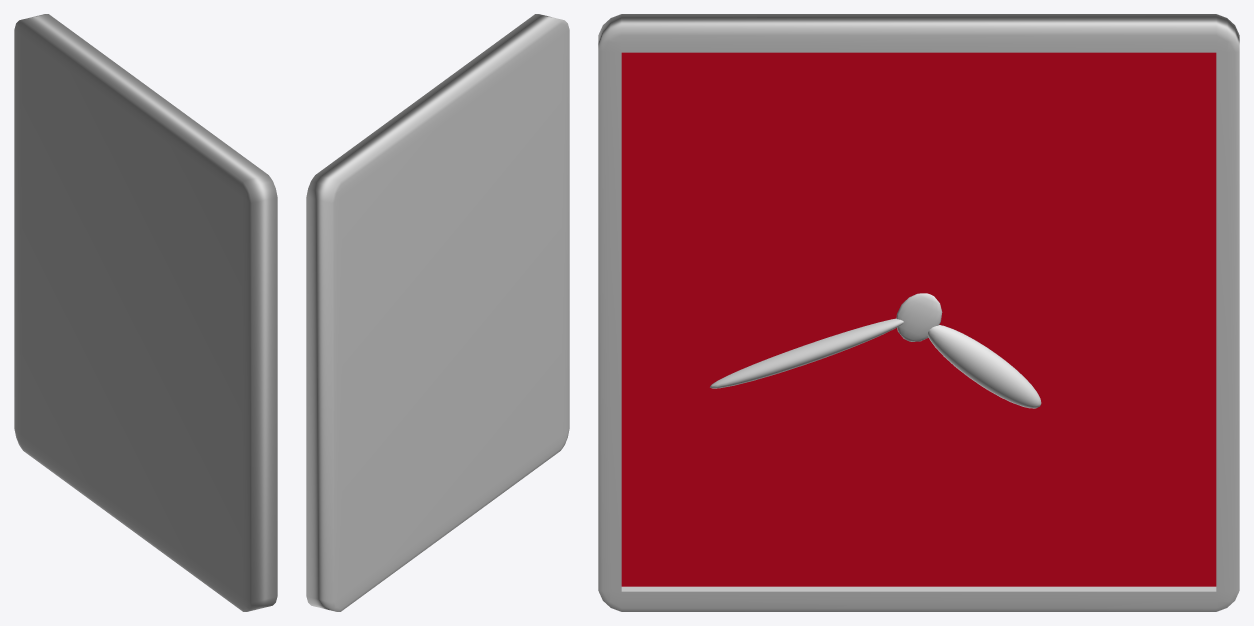
The model's file is clock2 1.fbx.
The picture shows the model from 3 angles, left to right: view 1: azimuth 30°, elevation 25°; view 2: azimuth 150°, elevation 25°; view 3: azimuth 270°, elevation 25°; orthographic projection. The views are drawn at different scales.
Parts seen in each view (by area): view 1: Cube; view 2: Cube; view 3: Cube, Sphere.005, Sphere.004, Sphere.
Part boxes in pixels (left/top/right/bottom): Cube: left=14, top=14, right=277, bottom=611; Cube: left=306, top=14, right=569, bottom=611; Cube: left=598, top=14, right=1239, bottom=611; Sphere.005: left=927, top=325, right=1041, bottom=408; Sphere.004: left=710, top=318, right=903, bottom=388; Sphere: left=896, top=293, right=942, bottom=341.
Bounding box in the file's own units: 14.79 × 200 × 200.
